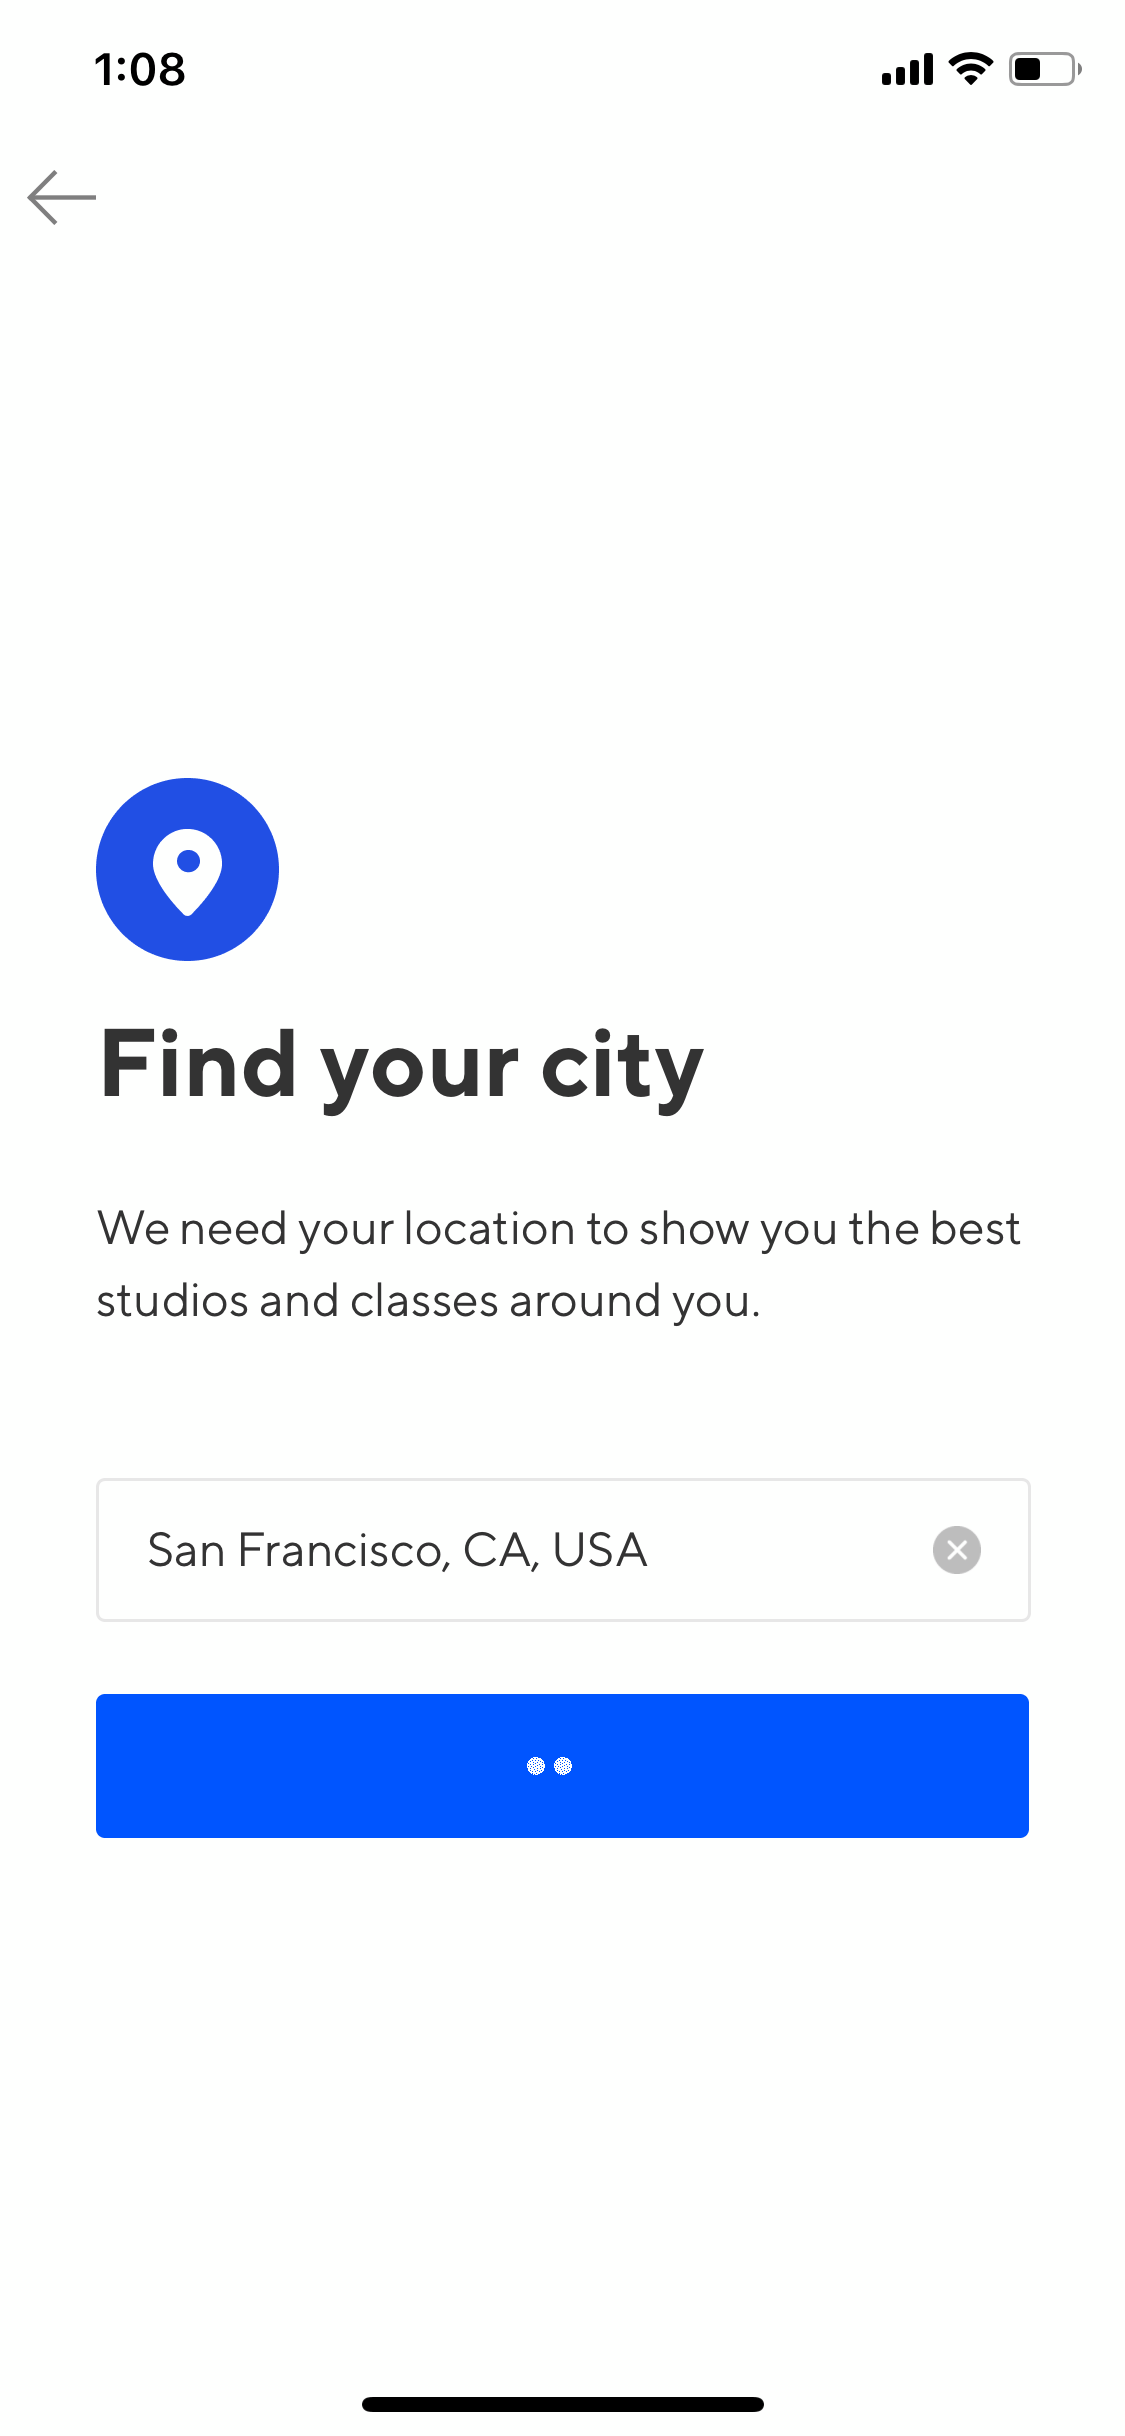Buttons: (89, 1676, 1040, 1864), (2, 113, 137, 270)
Text Fields: (81, 1449, 1043, 1653)
